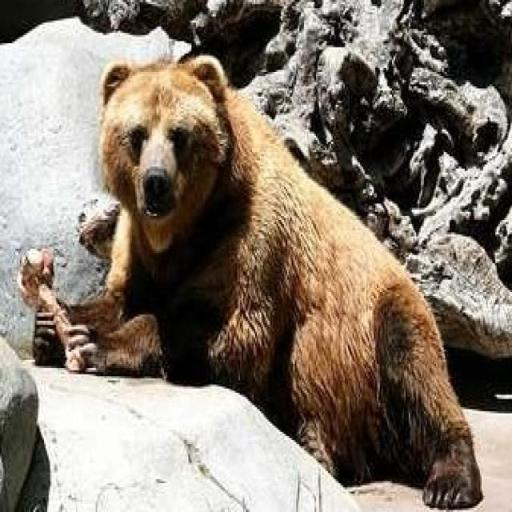Bear: (22, 52, 484, 510)
